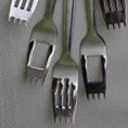Fork: (42, 1, 87, 119), (6, 1, 43, 28)
